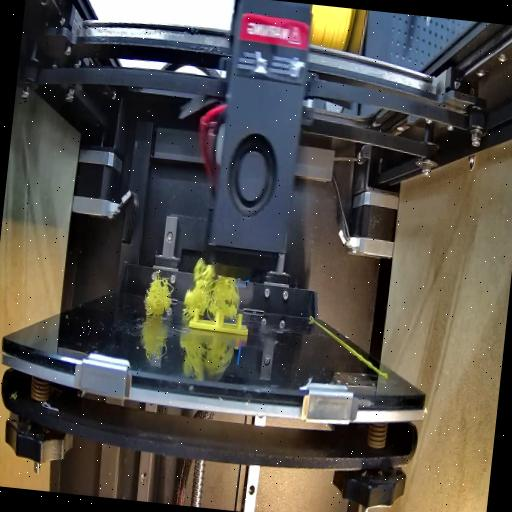spaghetti: (178, 256, 243, 318), (140, 268, 174, 316)
